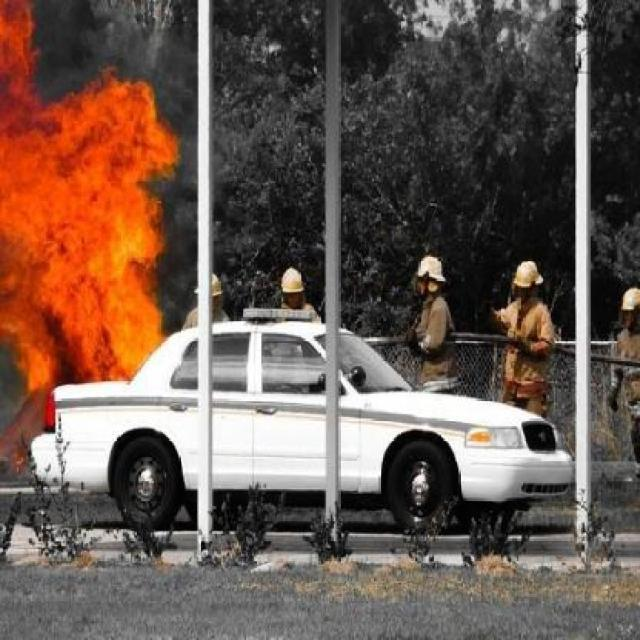Fire: (0, 16, 172, 451)
